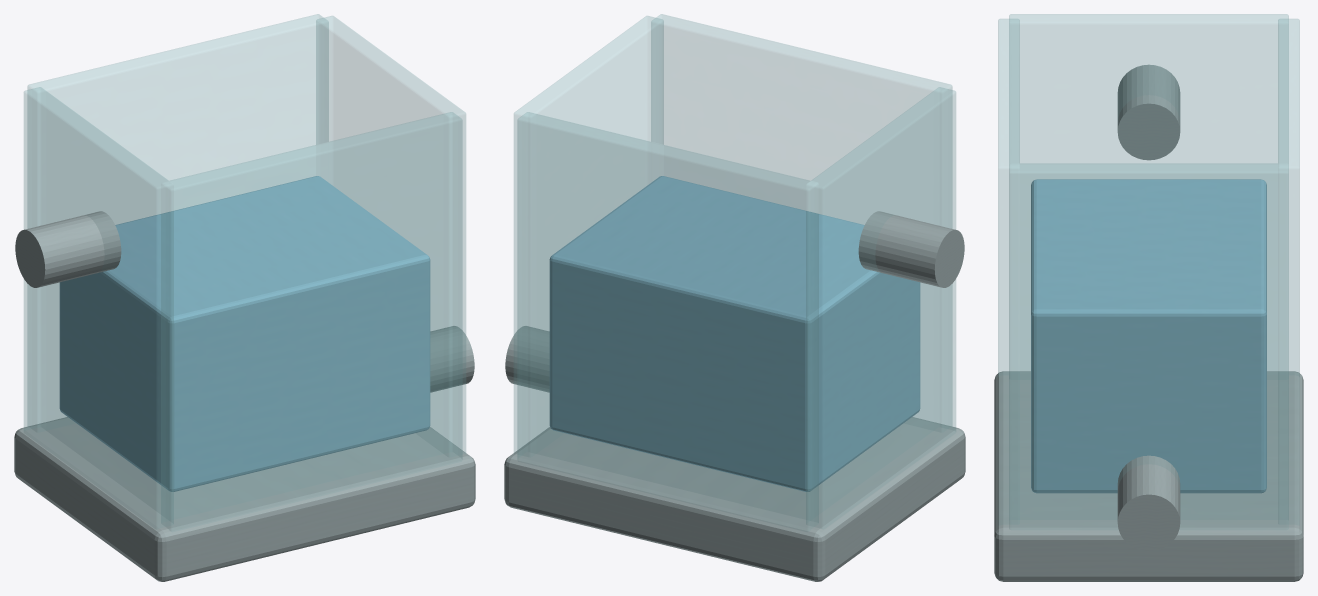
Rendered from water_tank.glb.
3 renders of one model, left to right at view 1: azimuth 30°, elevation 25°; view 2: azimuth 150°, elevation 25°; view 3: azimuth 270°, elevation 25°, orthographic. The views are drawn at different scales.
Parts seen in each view (by area): view 1: Tank_Glass_End, Tank_Water, Tank_Glass_End.001, Tank_Glass_Side, Tank_Base, Tank_Glass_Side.001, Tank_Inlet, Tank_Outlet; view 2: Tank_Glass_End.001, Tank_Water, Tank_Glass_End, Tank_Glass_Side, Tank_Base, Tank_Glass_Side.001, Tank_Inlet, Tank_Outlet; view 3: Tank_Glass_Side.001, Tank_Water, Tank_Glass_Side, Tank_Base, Tank_Glass_End.001, Tank_Glass_End, Tank_Inlet, Tank_Outlet.
Boxes of the visible parts, bbox=[...] form: Tank_Glass_End: bbox=[161, 112, 462, 531]; Tank_Water: bbox=[59, 176, 430, 491]; Tank_Glass_End.001: bbox=[27, 14, 328, 426]; Tank_Glass_Side: bbox=[24, 87, 173, 528]; Tank_Base: bbox=[14, 417, 475, 581]; Tank_Glass_Side.001: bbox=[316, 16, 465, 453]; Tank_Inlet: bbox=[15, 211, 121, 287]; Tank_Outlet: bbox=[430, 326, 474, 392]; Tank_Glass_End.001: bbox=[517, 112, 818, 531]; Tank_Water: bbox=[549, 176, 920, 491]; Tank_Glass_End: bbox=[651, 14, 952, 426]; Tank_Glass_Side: bbox=[806, 87, 955, 528]; Tank_Base: bbox=[504, 417, 965, 581]; Tank_Glass_Side.001: bbox=[514, 16, 663, 453]; Tank_Inlet: bbox=[858, 211, 964, 287]; Tank_Outlet: bbox=[505, 326, 549, 392]; Tank_Glass_Side.001: bbox=[1009, 163, 1288, 529]; Tank_Water: bbox=[1031, 179, 1266, 493]; Tank_Glass_Side: bbox=[1009, 14, 1288, 371]; Tank_Base: bbox=[994, 371, 1303, 581]; Tank_Glass_End.001: bbox=[1278, 19, 1299, 524]; Tank_Glass_End: bbox=[998, 19, 1019, 524]; Tank_Inlet: bbox=[1117, 64, 1180, 160]; Tank_Outlet: bbox=[1117, 455, 1180, 551].
Bounding box in the file's own units: 1.41 × 1.23 × 0.84.
Materials: 6 (6 with a texture image).
